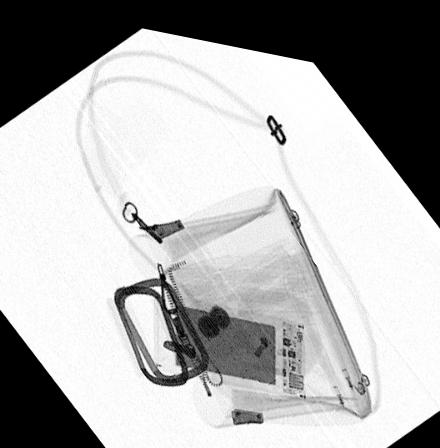Powerbank: (153, 283, 305, 386)
